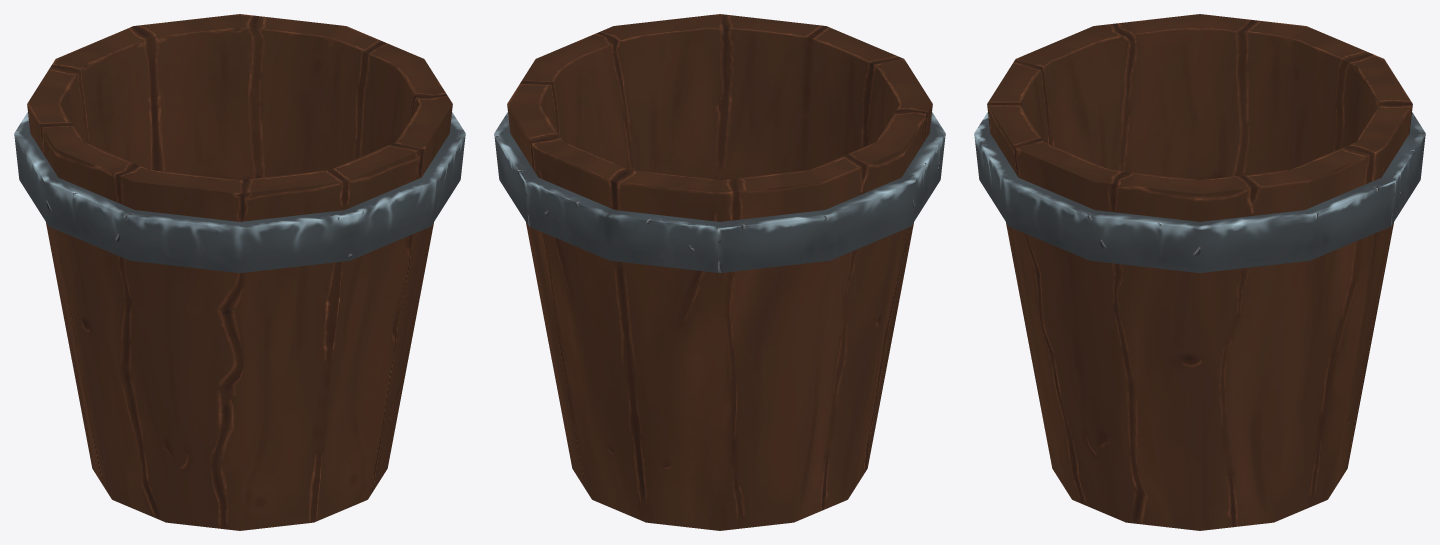
The model's file is bathroom_bucket_V02.glb.
3 renders of one model, left to right at view 1: azimuth 30°, elevation 25°; view 2: azimuth 150°, elevation 25°; view 3: azimuth 270°, elevation 25°, orthographic.
Parts seen in each view (by area): view 1: Cylinder.004; view 2: Cylinder.004; view 3: Cylinder.004.
Part boxes in pixels (x1,y1,x2,y2): Cylinder.004: (14, 14, 465, 530); Cylinder.004: (494, 14, 945, 530); Cylinder.004: (974, 14, 1425, 530).
Bounding box in the file's own units: 0.3485 × 0.3105 × 0.3485.
1 material, 1 textured.
